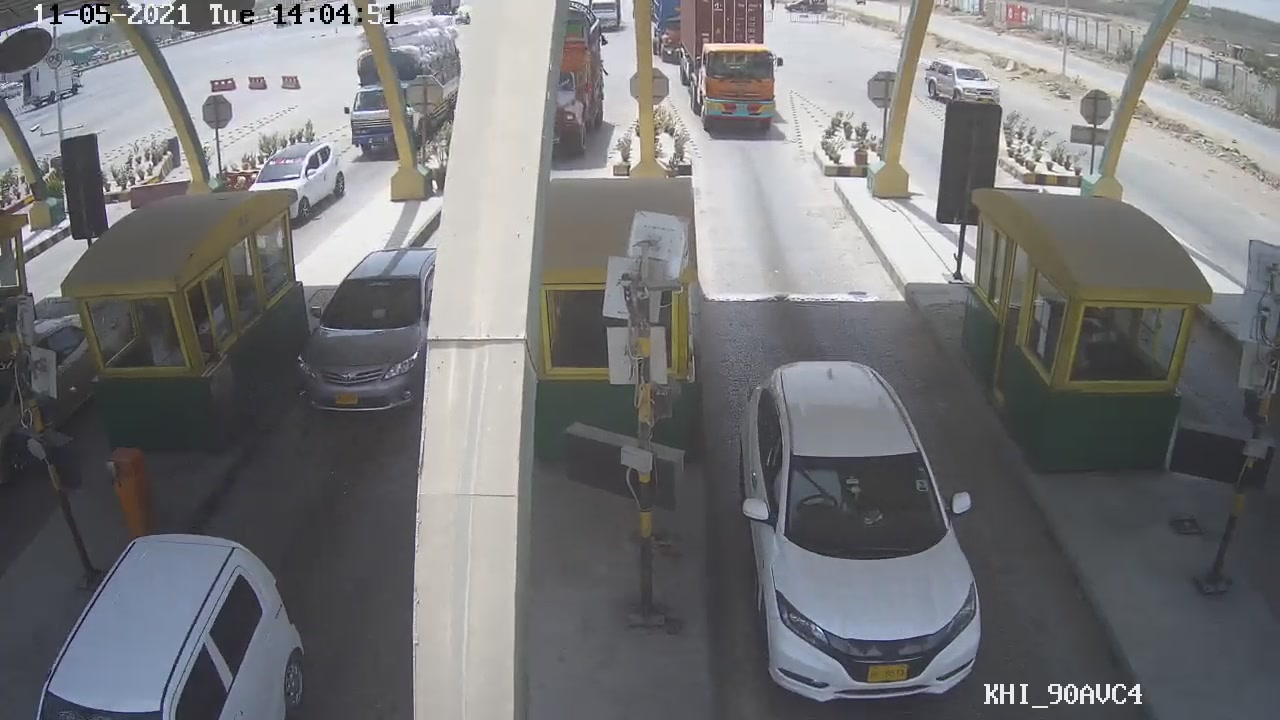F1: (732, 349, 986, 705)
